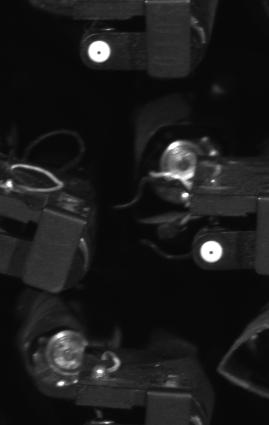fiber: (82, 36, 115, 67), (196, 237, 229, 265)
